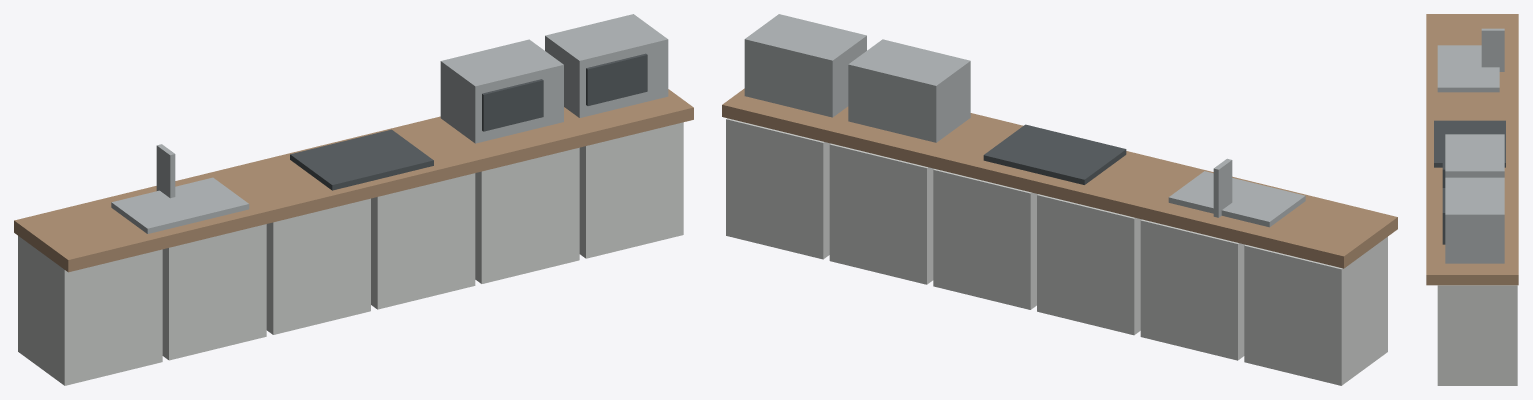
Rendered from 16_kitchen_lower_complete.glb.
3 renders of one model, left to right at view 1: azimuth 30°, elevation 25°; view 2: azimuth 150°, elevation 25°; view 3: azimuth 270°, elevation 25°, orthographic. The views are drawn at different scales.
Visible parts, largest first — view 1: counter, base0, base3, base1, base5, base4, base2, microwave0, microwave1, cooktop, sink, mwdoor0 (+2 smaller); view 2: counter, base0, base1, base4, base3, base2, base5, microwave0, microwave1, cooktop, sink, faucet; view 3: counter, base5, microwave1, microwave0, sink, cooktop, faucet, mwdoor1, mwdoor0.
Part boxes in pixels (x1=…): counter: x1=14, y1=89, x2=693, y2=272; base0: x1=18, y1=236, x2=162, y2=385; base3: x1=371, y1=173, x2=475, y2=309; base1: x1=162, y1=224, x2=266, y2=360; base5: x1=579, y1=122, x2=683, y2=258; base4: x1=475, y1=147, x2=579, y2=283; base2: x1=266, y1=198, x2=370, y2=334; microwave0: x1=440, y1=39, x2=563, y2=143; microwave1: x1=545, y1=14, x2=668, y2=117; cooktop: x1=290, y1=129, x2=433, y2=190; sink: x1=111, y1=177, x2=249, y2=233; mwdoor0: x1=482, y1=79, x2=543, y2=131; counter: x1=722, y1=88, x2=1397, y2=268; base0: x1=1244, y1=237, x2=1387, y2=385; base1: x1=1140, y1=219, x2=1245, y2=360; base4: x1=829, y1=143, x2=934, y2=284; base3: x1=933, y1=169, x2=1037, y2=309; base2: x1=1037, y1=194, x2=1141, y2=335; base5: x1=726, y1=118, x2=830, y2=259; microwave0: x1=848, y1=39, x2=970, y2=142; microwave1: x1=744, y1=14, x2=866, y2=117; cooktop: x1=983, y1=124, x2=1126, y2=184; sink: x1=1168, y1=171, x2=1305, y2=227; faucet: x1=1213, y1=158, x2=1232, y2=217; counter: x1=1426, y1=14, x2=1518, y2=285; base5: x1=1437, y1=285, x2=1517, y2=385; microwave1: x1=1445, y1=177, x2=1504, y2=263; microwave0: x1=1445, y1=134, x2=1504, y2=177; sink: x1=1437, y1=45, x2=1499, y2=92; cooktop: x1=1434, y1=120, x2=1505, y2=167; faucet: x1=1481, y1=28, x2=1504, y2=71; mwdoor1: x1=1442, y1=188, x2=1445, y2=244; mwdoor0: x1=1442, y1=144, x2=1445, y2=187.
Bounding box in the file's own units: 4.8 × 1.43 × 0.72.
